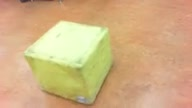cube: (24, 20, 113, 105)
